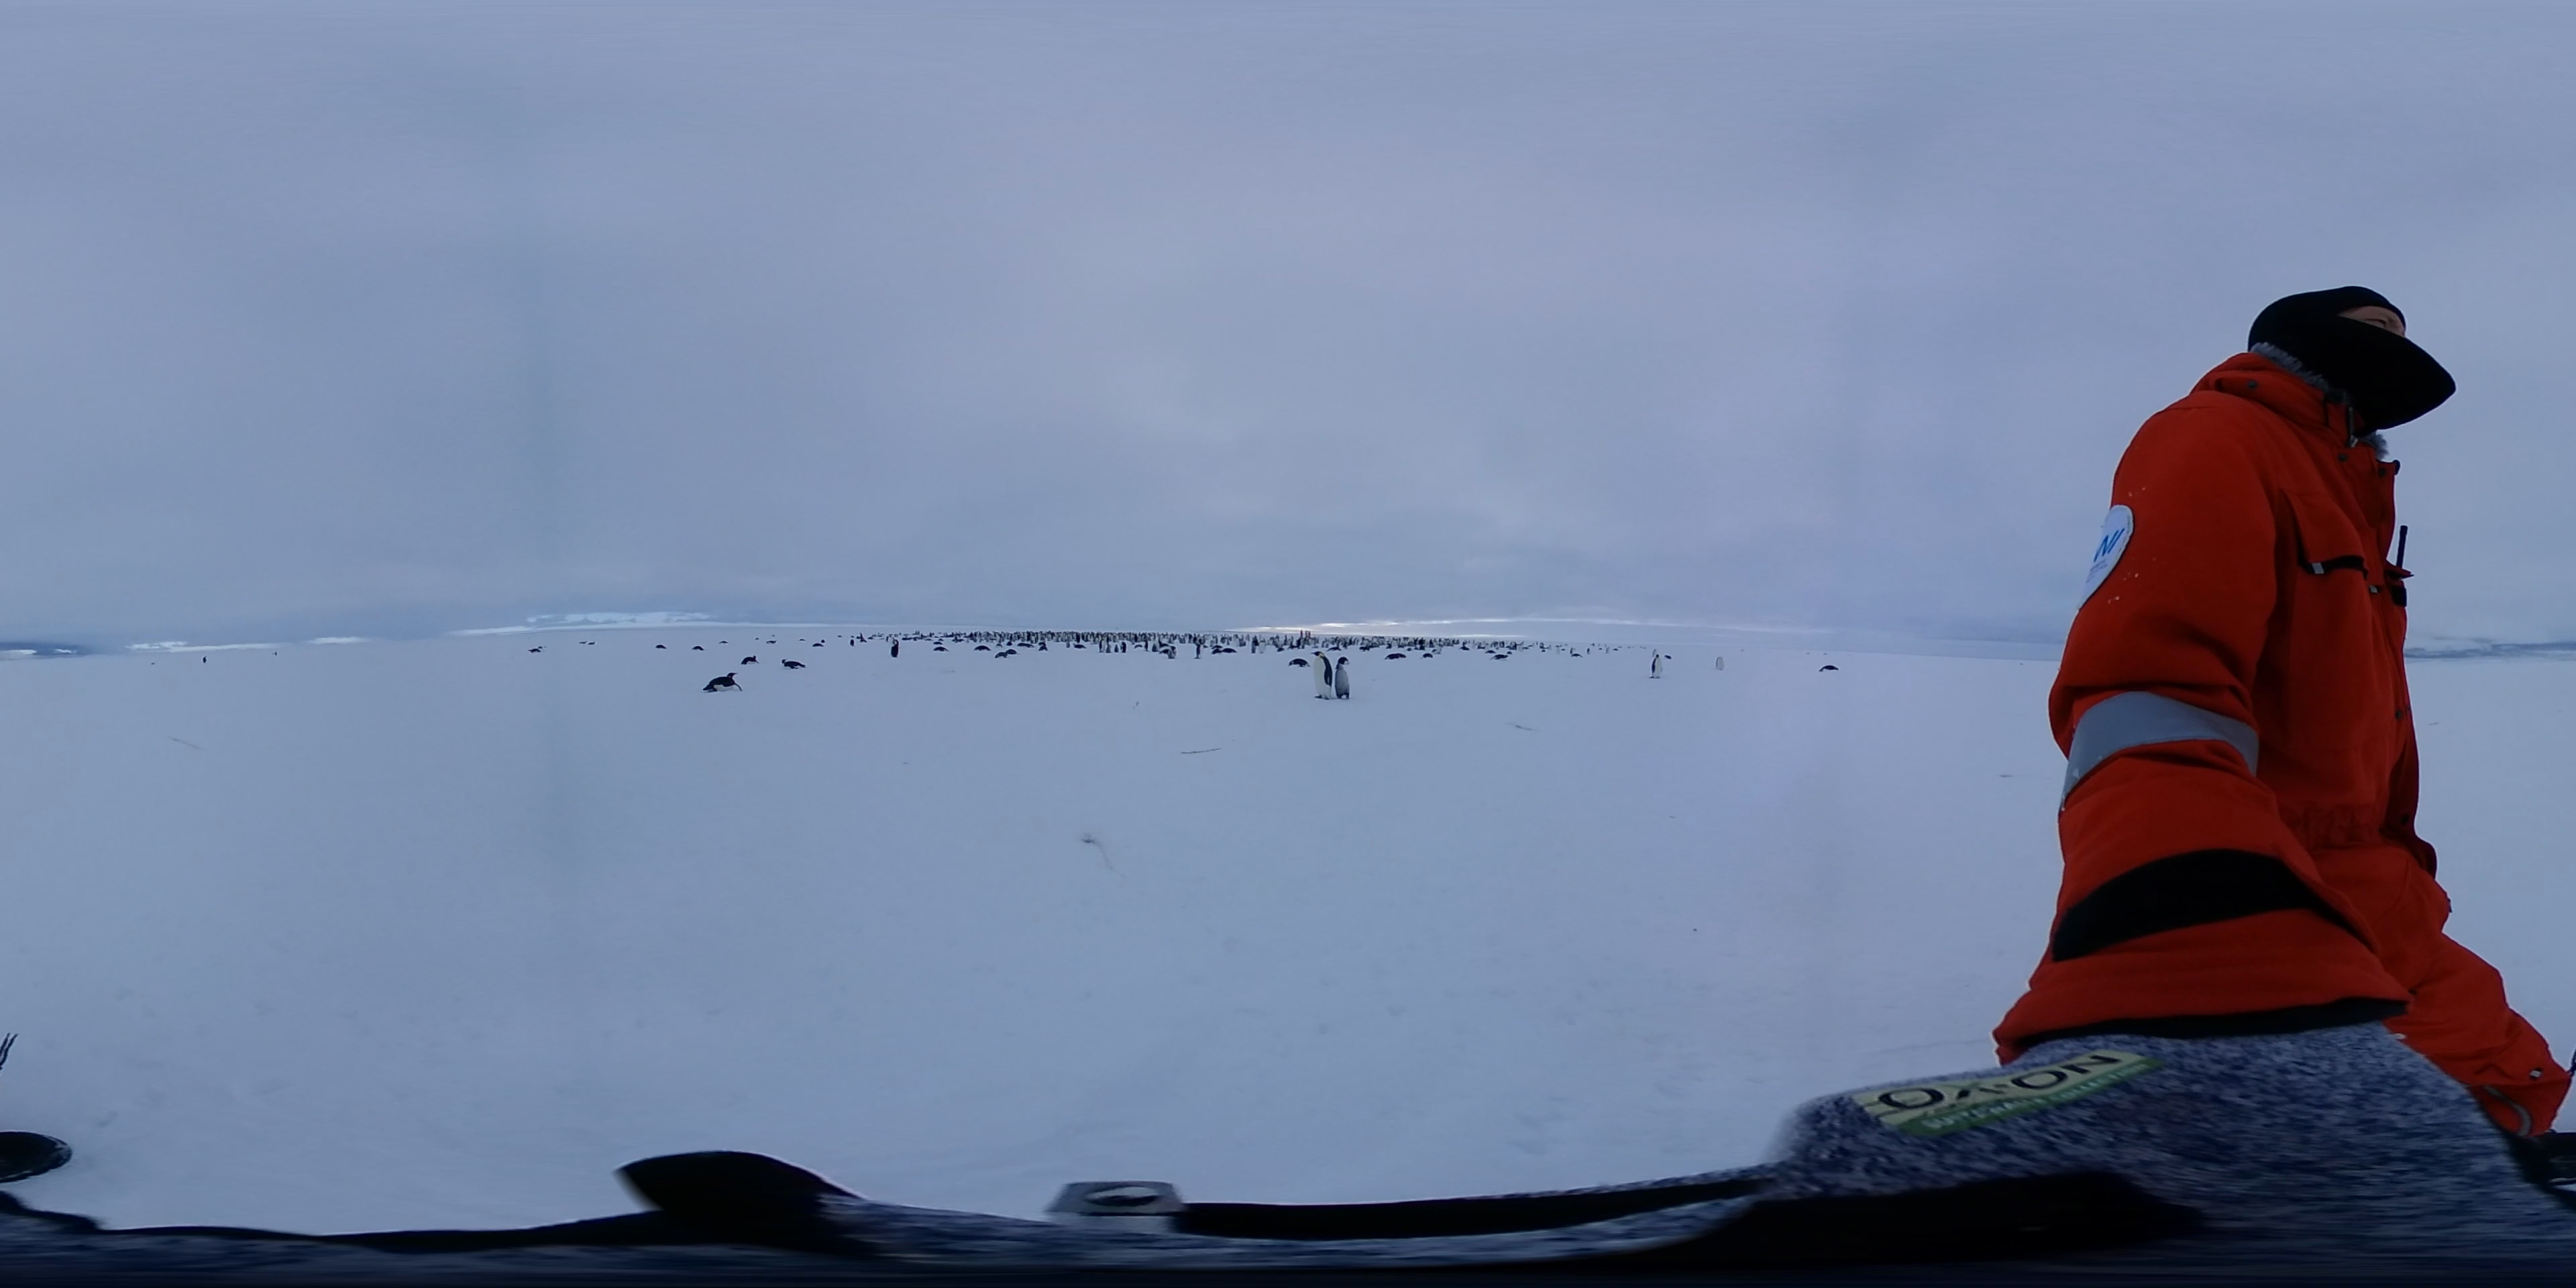adult_standing_penguin: (1308, 647, 1334, 703), (1649, 654, 1664, 680), (889, 641, 902, 657), (1712, 655, 1723, 674)
adult_toboggan_penguin: (698, 670, 744, 693), (775, 657, 807, 670), (1815, 662, 1843, 674), (739, 654, 761, 667), (1286, 657, 1309, 667)
juvenile_penguin: (1336, 664, 1352, 700)
researcher: (2031, 274, 2576, 1178)
